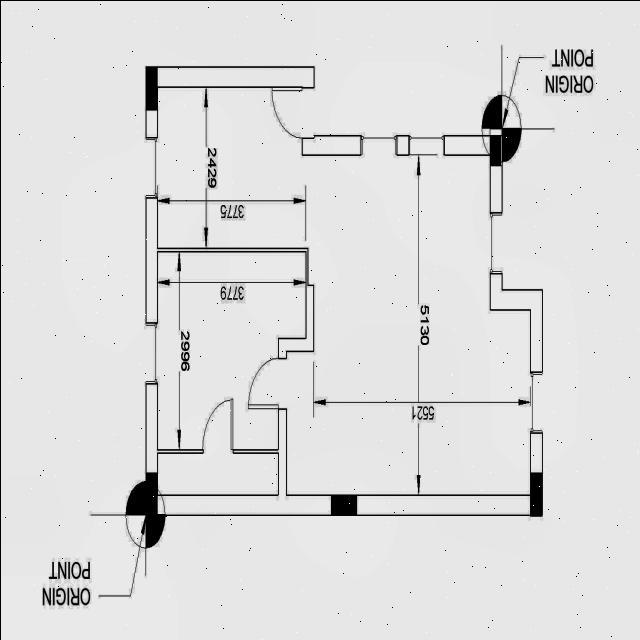Column: (328, 494, 358, 516), (528, 472, 542, 516), (144, 66, 157, 110), (144, 472, 156, 518), (488, 134, 501, 166)
Door: (193, 392, 236, 455), (246, 351, 286, 417), (270, 86, 312, 148)
Window: (141, 130, 157, 201), (141, 317, 157, 385), (406, 131, 446, 157), (358, 132, 396, 156), (488, 210, 502, 274), (530, 367, 542, 432)
